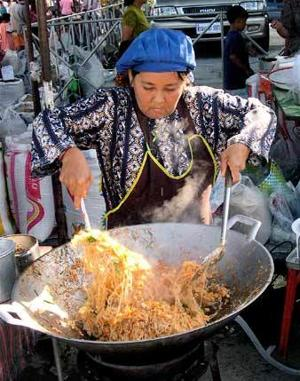person: (32, 28, 278, 231)
